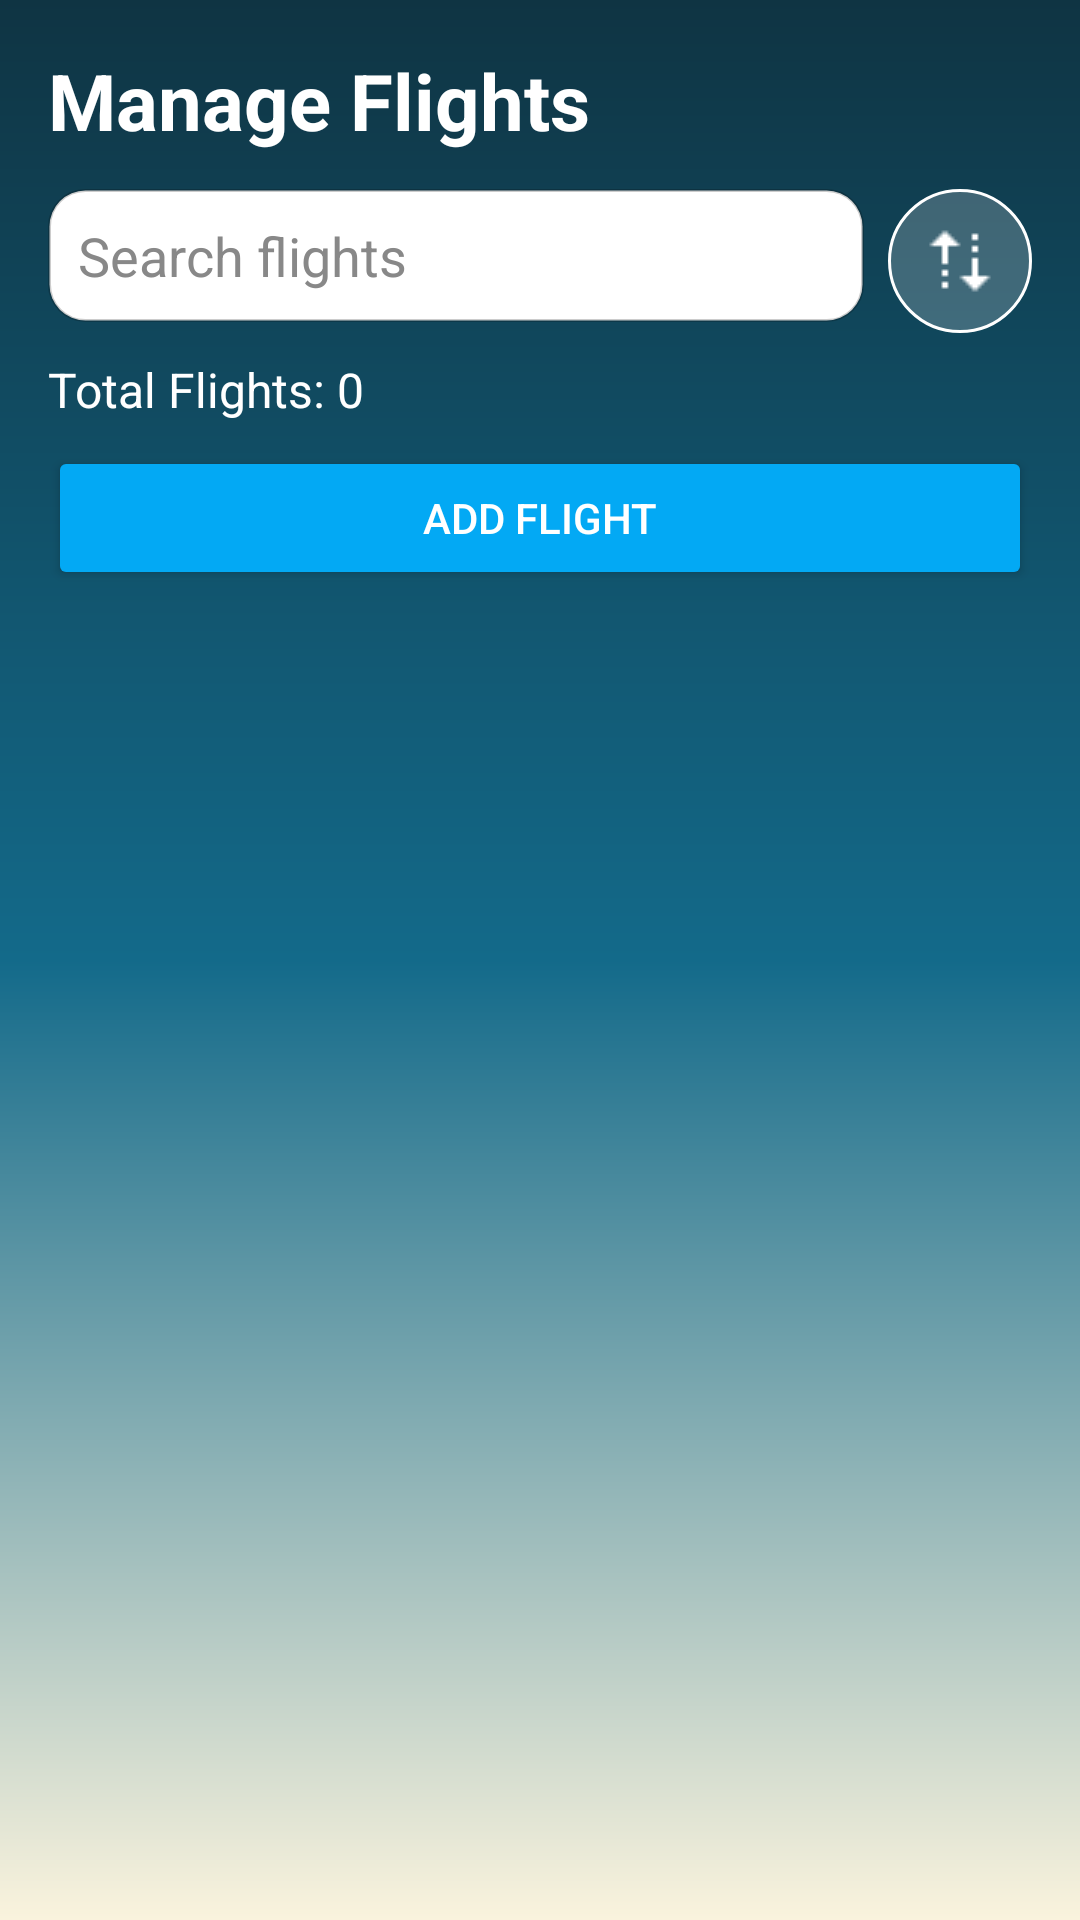

Locate icon controls on the screen. Image size 1080×1920, boxes as [left=x1, top=y1, right=x2, bottom=y2].
Sort Flights: [left=888, top=189, right=1032, bottom=333]
